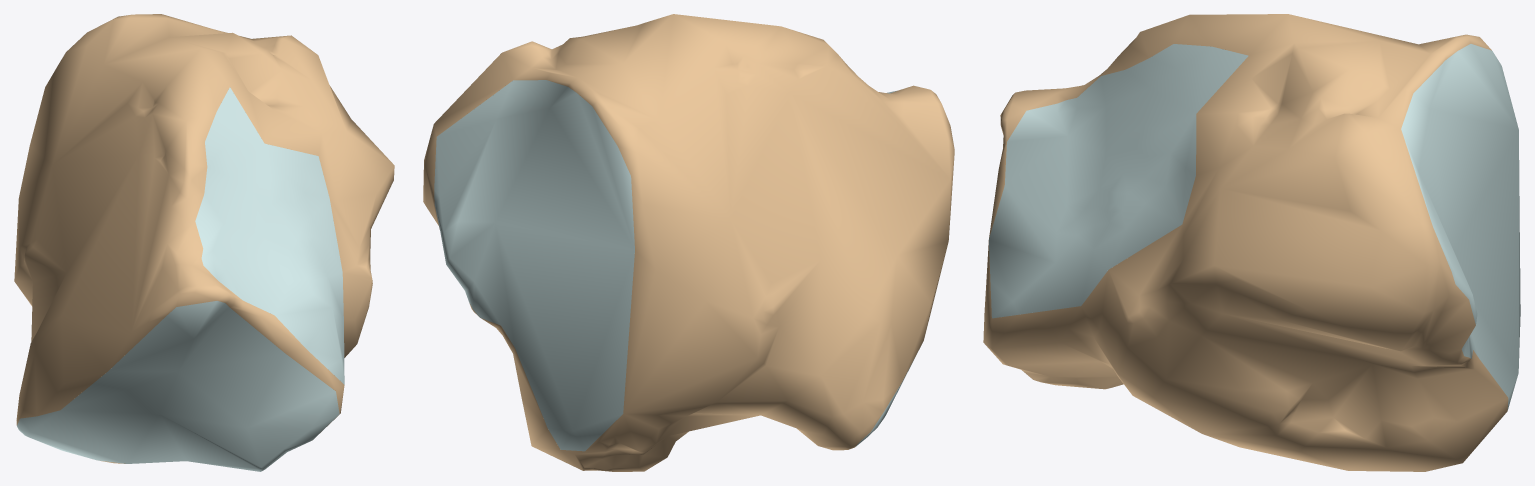
The model's file is Cuboid_bone.r_Generated_Mesh_From_X3D.894.glb.
3 views of the same model, side by side, from view 1: azimuth 30°, elevation 25°; view 2: azimuth 150°, elevation 25°; view 3: azimuth 270°, elevation 25° (orthographic). The views are drawn at different scales.
Parts seen in each view (by area): view 1: Cuboid_bone.r_Generated_Mesh_From_X3D.894; view 2: Cuboid_bone.r_Generated_Mesh_From_X3D.894; view 3: Cuboid_bone.r_Generated_Mesh_From_X3D.894.
Boxes of the visible parts, x1=… form: Cuboid_bone.r_Generated_Mesh_From_X3D.894: x1=14, y1=14, x2=394, y2=471; Cuboid_bone.r_Generated_Mesh_From_X3D.894: x1=423, y1=14, x2=954, y2=471; Cuboid_bone.r_Generated_Mesh_From_X3D.894: x1=983, y1=14, x2=1520, y2=471.
Size of the model in its own units: 0.0322 by 0.0304 by 0.0342.
